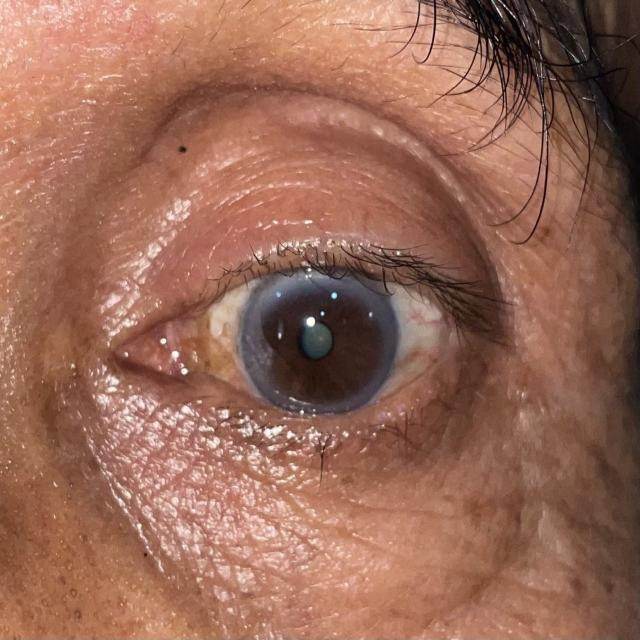Cataract: (240, 254, 396, 424)
